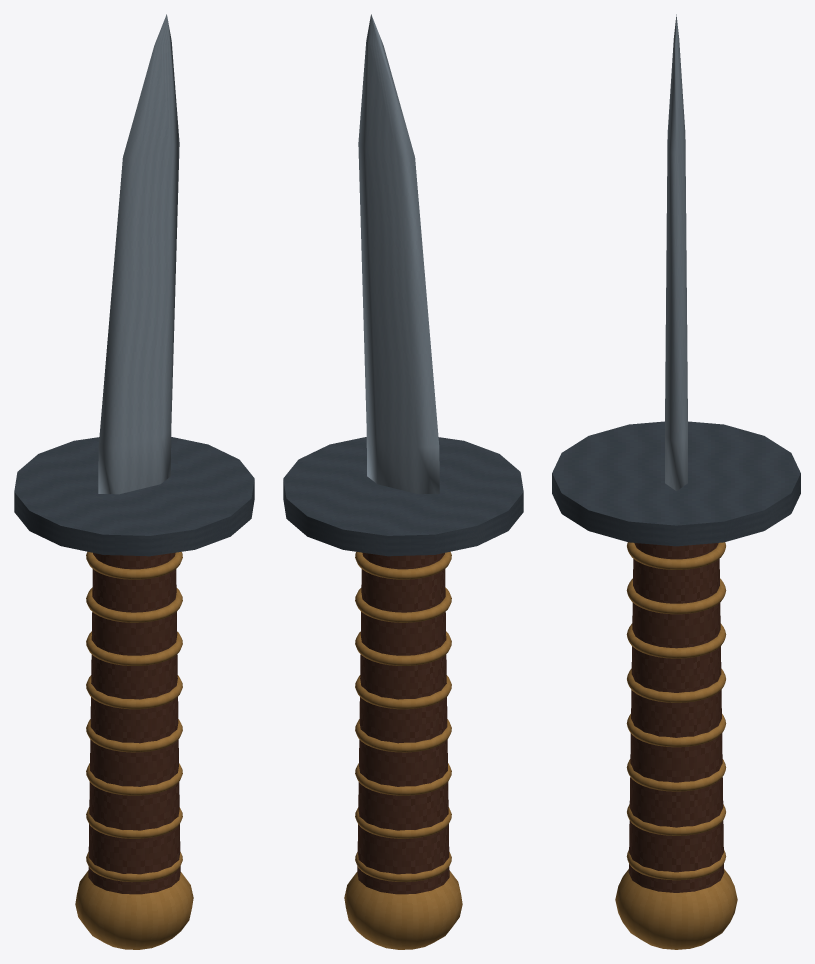
Rendered from tanto.lod1.glb.
3 views of the same model, side by side, from view 1: azimuth 30°, elevation 25°; view 2: azimuth 150°, elevation 25°; view 3: azimuth 270°, elevation 25° (orthographic). The views are drawn at different scales.
Visible parts, largest first — view 1: blade, leather.0, iron.11, brass.10, brass.7, brass.6, brass.8, brass.5, brass.4, brass.3, brass.2, brass.1; view 2: blade, leather.0, iron.11, brass.10, brass.7, brass.6, brass.8, brass.5, brass.4, brass.3, brass.2, brass.1; view 3: leather.0, iron.11, blade, brass.10, brass.7, brass.6, brass.8, brass.5, brass.4, brass.3, brass.2, brass.1.
Part boxes in pixels (box(x1,y1,x2,y2)): blade: box(98, 14, 179, 494); leather.0: box(88, 552, 180, 894); iron.11: box(14, 437, 254, 556); brass.10: box(75, 871, 193, 949); brass.7: box(86, 587, 182, 622); brass.6: box(86, 631, 182, 665); brass.8: box(86, 551, 182, 579); brass.5: box(86, 675, 182, 709); brass.4: box(86, 719, 182, 752); brass.3: box(86, 763, 182, 795); brass.2: box(86, 807, 182, 838); brass.1: box(86, 852, 182, 882); blade: box(358, 14, 439, 494); leather.0: box(357, 552, 449, 894); iron.11: box(283, 437, 523, 556); brass.10: box(344, 871, 462, 949); brass.7: box(355, 587, 451, 622); brass.6: box(355, 631, 451, 665); brass.8: box(355, 551, 451, 579); brass.5: box(355, 675, 451, 709); brass.4: box(355, 719, 451, 752); brass.3: box(355, 763, 451, 795); brass.2: box(355, 807, 451, 838); brass.1: box(355, 852, 451, 882); leather.0: box(628, 543, 724, 892); iron.11: box(552, 421, 800, 546); blade: box(665, 14, 687, 490); brass.10: box(615, 869, 737, 949); brass.7: box(626, 578, 726, 614); brass.6: box(626, 623, 726, 658); brass.8: box(627, 542, 725, 569); brass.5: box(627, 668, 725, 702); brass.4: box(626, 714, 726, 747); brass.3: box(626, 759, 726, 791); brass.2: box(627, 804, 725, 835); brass.1: box(626, 850, 726, 880).
Bounding box in the file's own units: 0.13 × 0.545 × 0.13.
4 materials, 4 textured.
